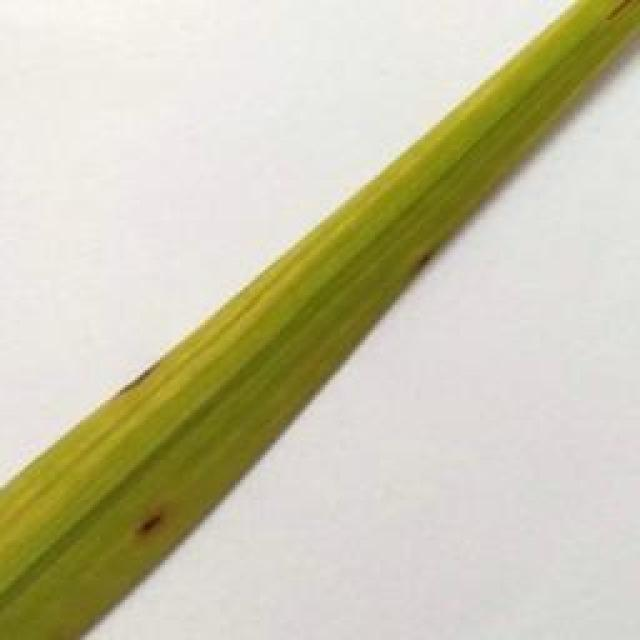Brown_Spot: (106, 495, 182, 541), (119, 370, 160, 407), (419, 248, 448, 290)
